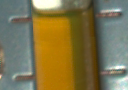border: (93, 9, 124, 19), (96, 67, 128, 76), (10, 73, 38, 83), (10, 17, 34, 25)
liquidlevel: (32, 7, 95, 19)
